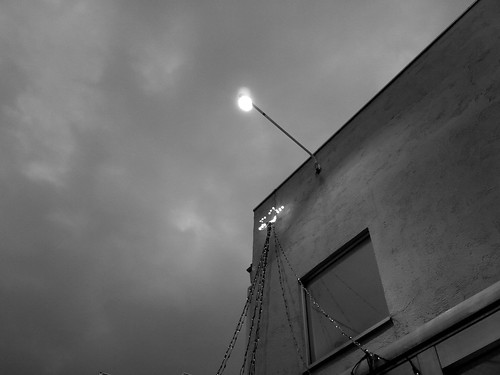building: (237, 17, 500, 375)
sky: (1, 1, 238, 362)
